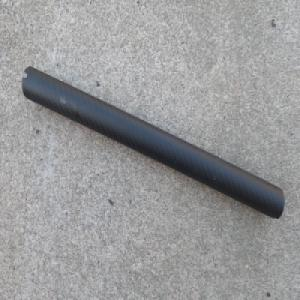LuggagePart: (20, 64, 285, 221)
